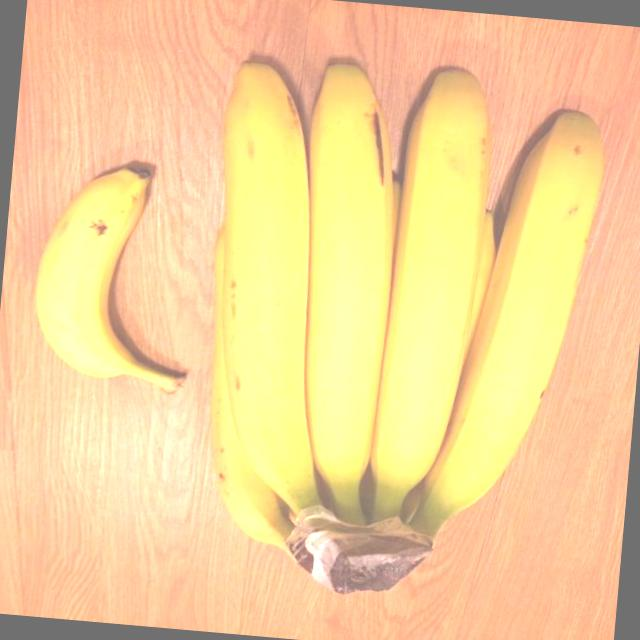Banana: (183, 51, 615, 612), (22, 152, 202, 396)
